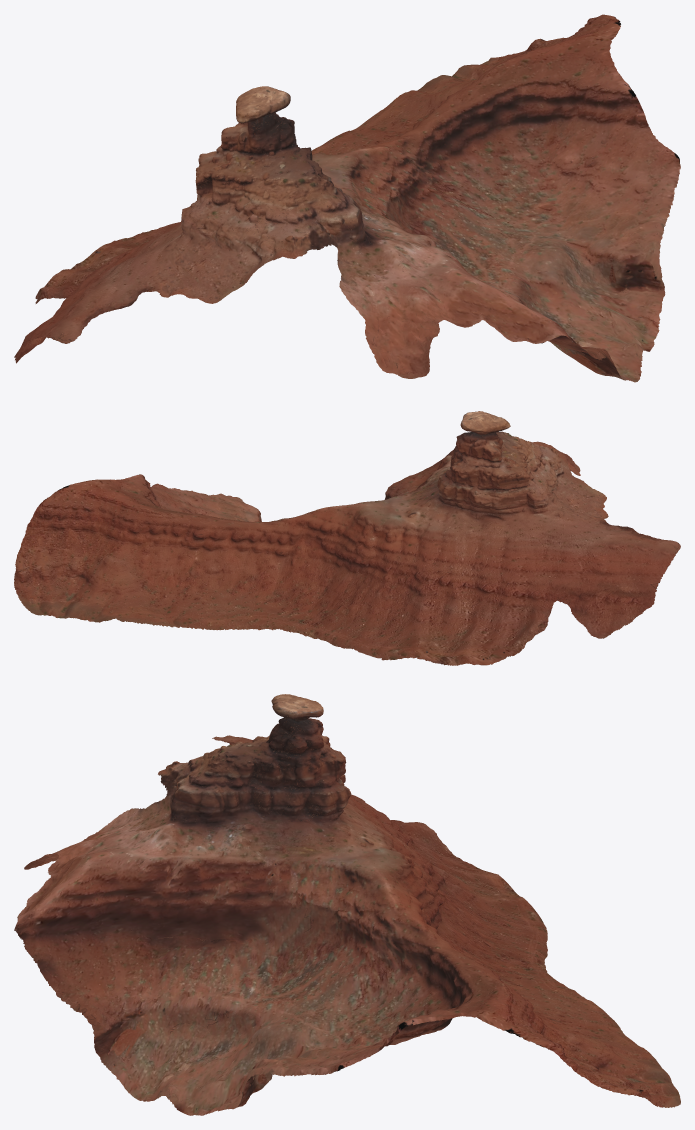
Rendered from mexican_hat_utah.glb.
3 renders of one model, top to bottom at view 1: azimuth 30°, elevation 25°; view 2: azimuth 150°, elevation 25°; view 3: azimuth 270°, elevation 25°, orthographic. The views are drawn at different scales.
Visible parts, largest first — view 1: Material_001-material (×2); view 2: Material_001-material (×2); view 3: Material_001-material (×2).
Part boxes in pixels (left/top/right/bottom): Material_001-material (×2): left=14, top=14, right=680, bottom=382; Material_001-material (×2): left=14, top=411, right=680, bottom=665; Material_001-material (×2): left=14, top=694, right=680, bottom=1115.
Size of the model in its own units: 113 by 42.63 by 95.89.
1 material, 1 textured.
